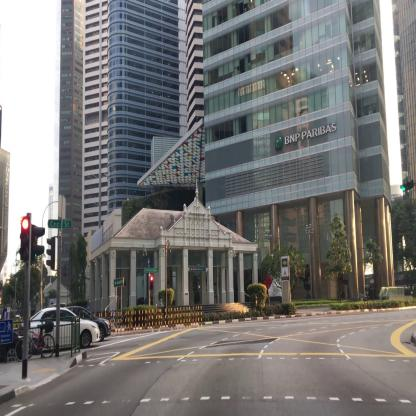red_traffic_light: (21, 217, 29, 261)
